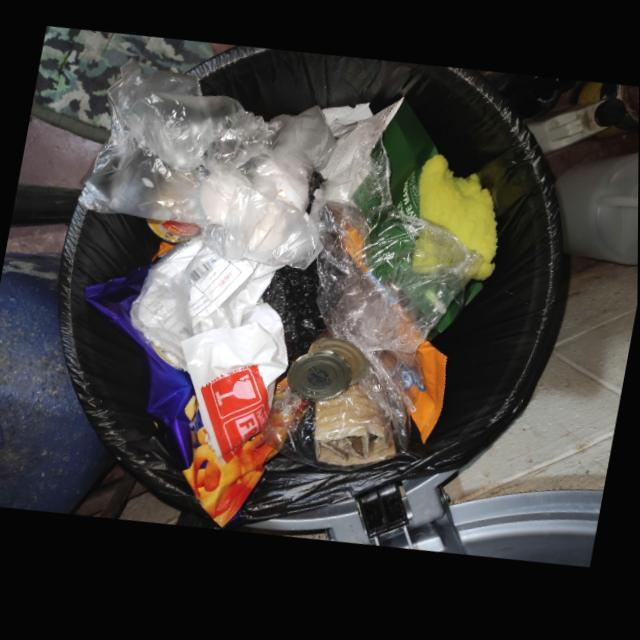metal: (287, 355, 353, 406), (308, 342, 369, 390)
plastic: (79, 63, 337, 273)
wrapper: (83, 264, 279, 530), (395, 346, 448, 450)
